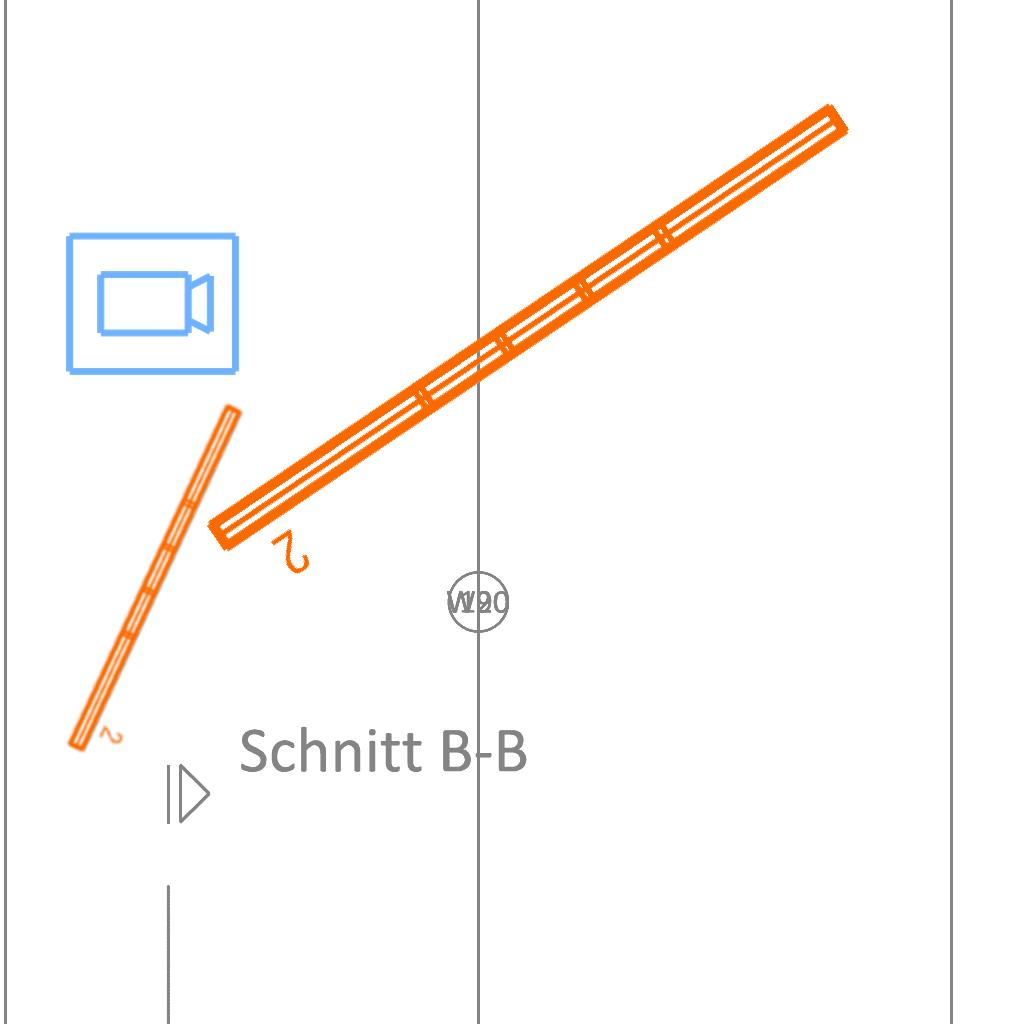Ambulanz_Pendelleuchte_LED: (190, 85, 896, 611), (59, 395, 274, 771)
KFO_Kamera_mit_Festobjektiv: (61, 228, 243, 382)
